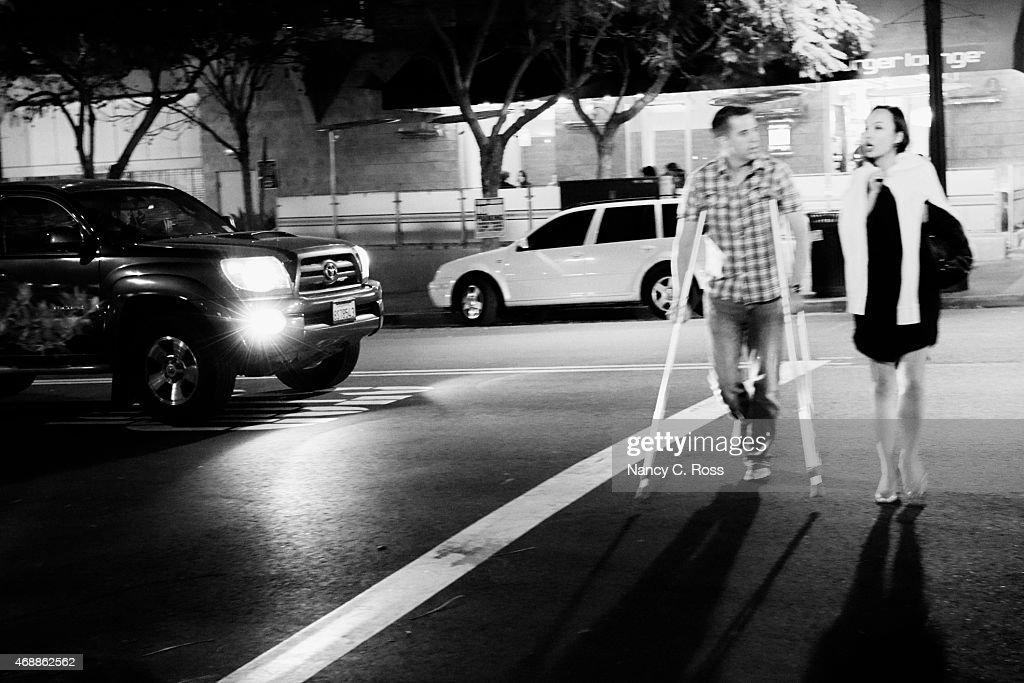crutches: (615, 98, 835, 512)
